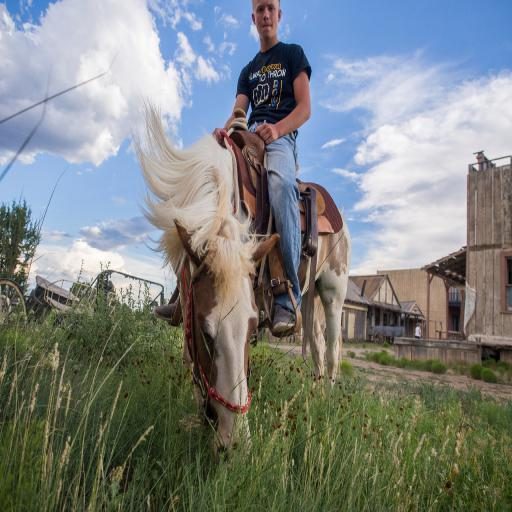horse: (129, 82, 352, 472)
